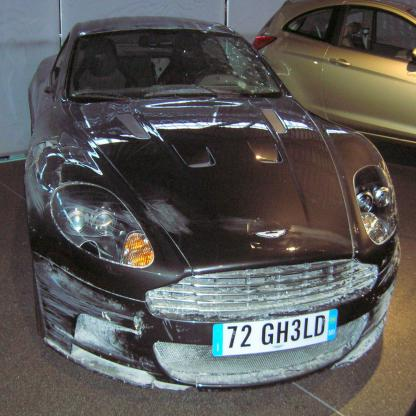Car: (25, 15, 400, 390), (251, 0, 415, 149)
